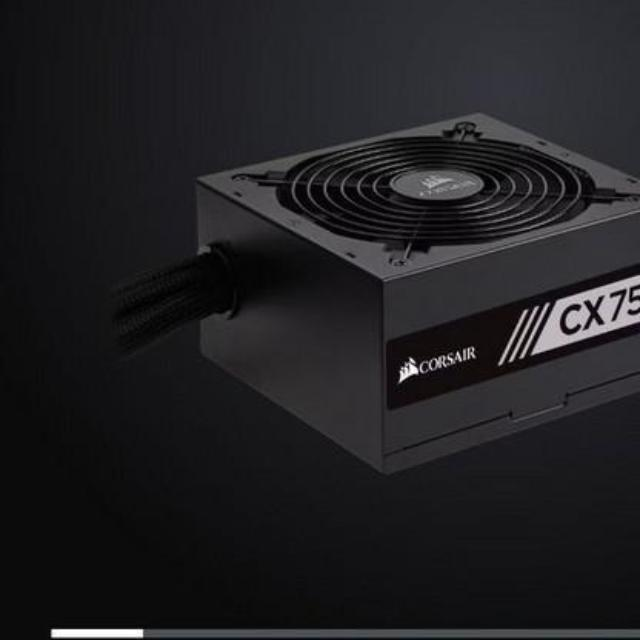PSU: (177, 104, 640, 493)
